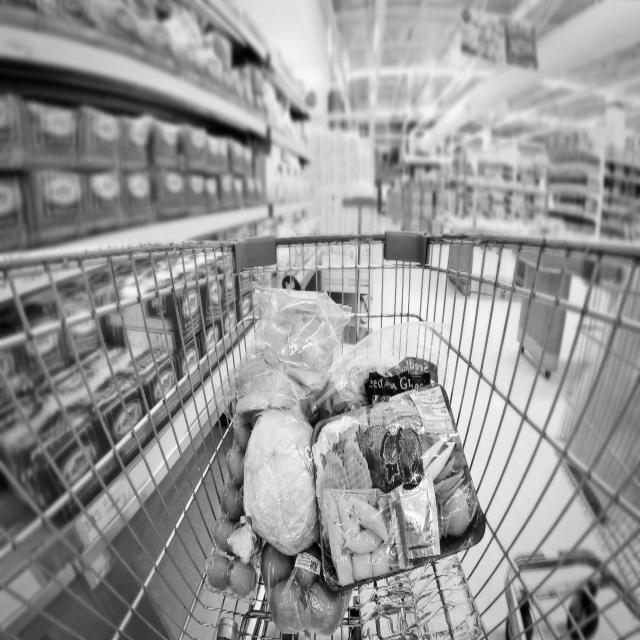apple: (257, 530, 355, 636)
bap cai: (240, 400, 324, 558)
egg: (207, 410, 265, 610)
grape: (364, 359, 436, 398)
